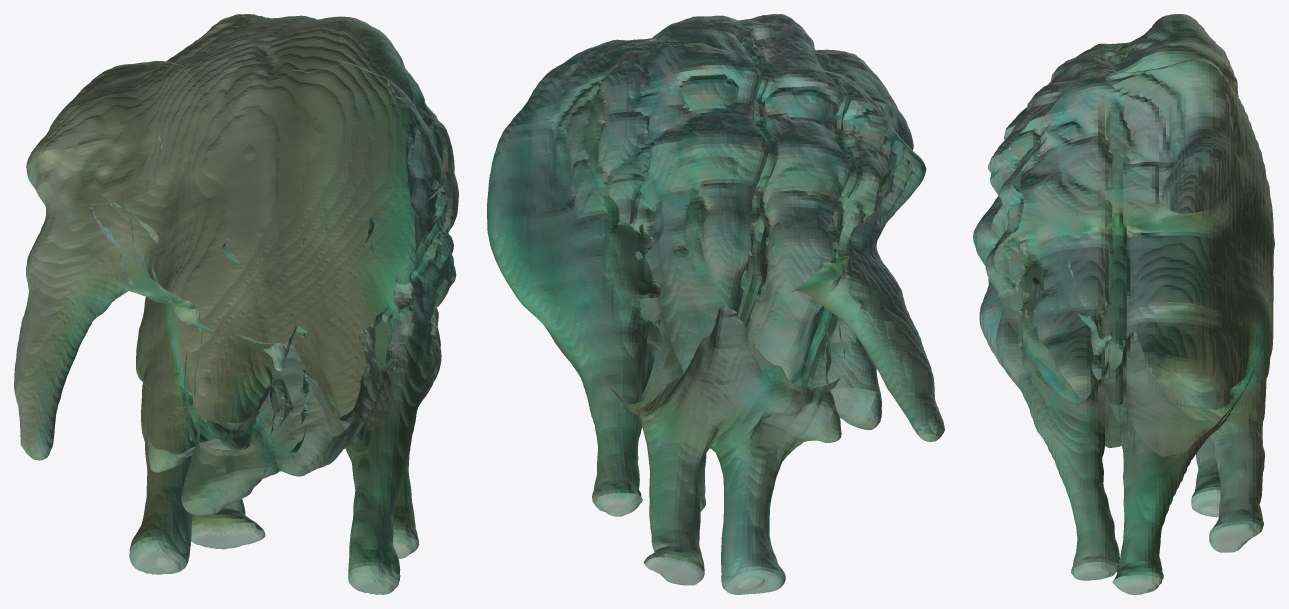
3 renders of one model, left to right at view 1: azimuth 30°, elevation 25°; view 2: azimuth 150°, elevation 25°; view 3: azimuth 270°, elevation 25°, orthographic. The views are drawn at different scales.
Visible parts, largest first — view 1: geometry_0; view 2: geometry_0; view 3: geometry_0.
Part boxes in pixels (x1,y1,x2,y2): geometry_0: (14,14,458,594); geometry_0: (487,14,944,594); geometry_0: (973,14,1274,594).
Size of the model in its own units: 1.35 by 1.6 by 0.9087.
